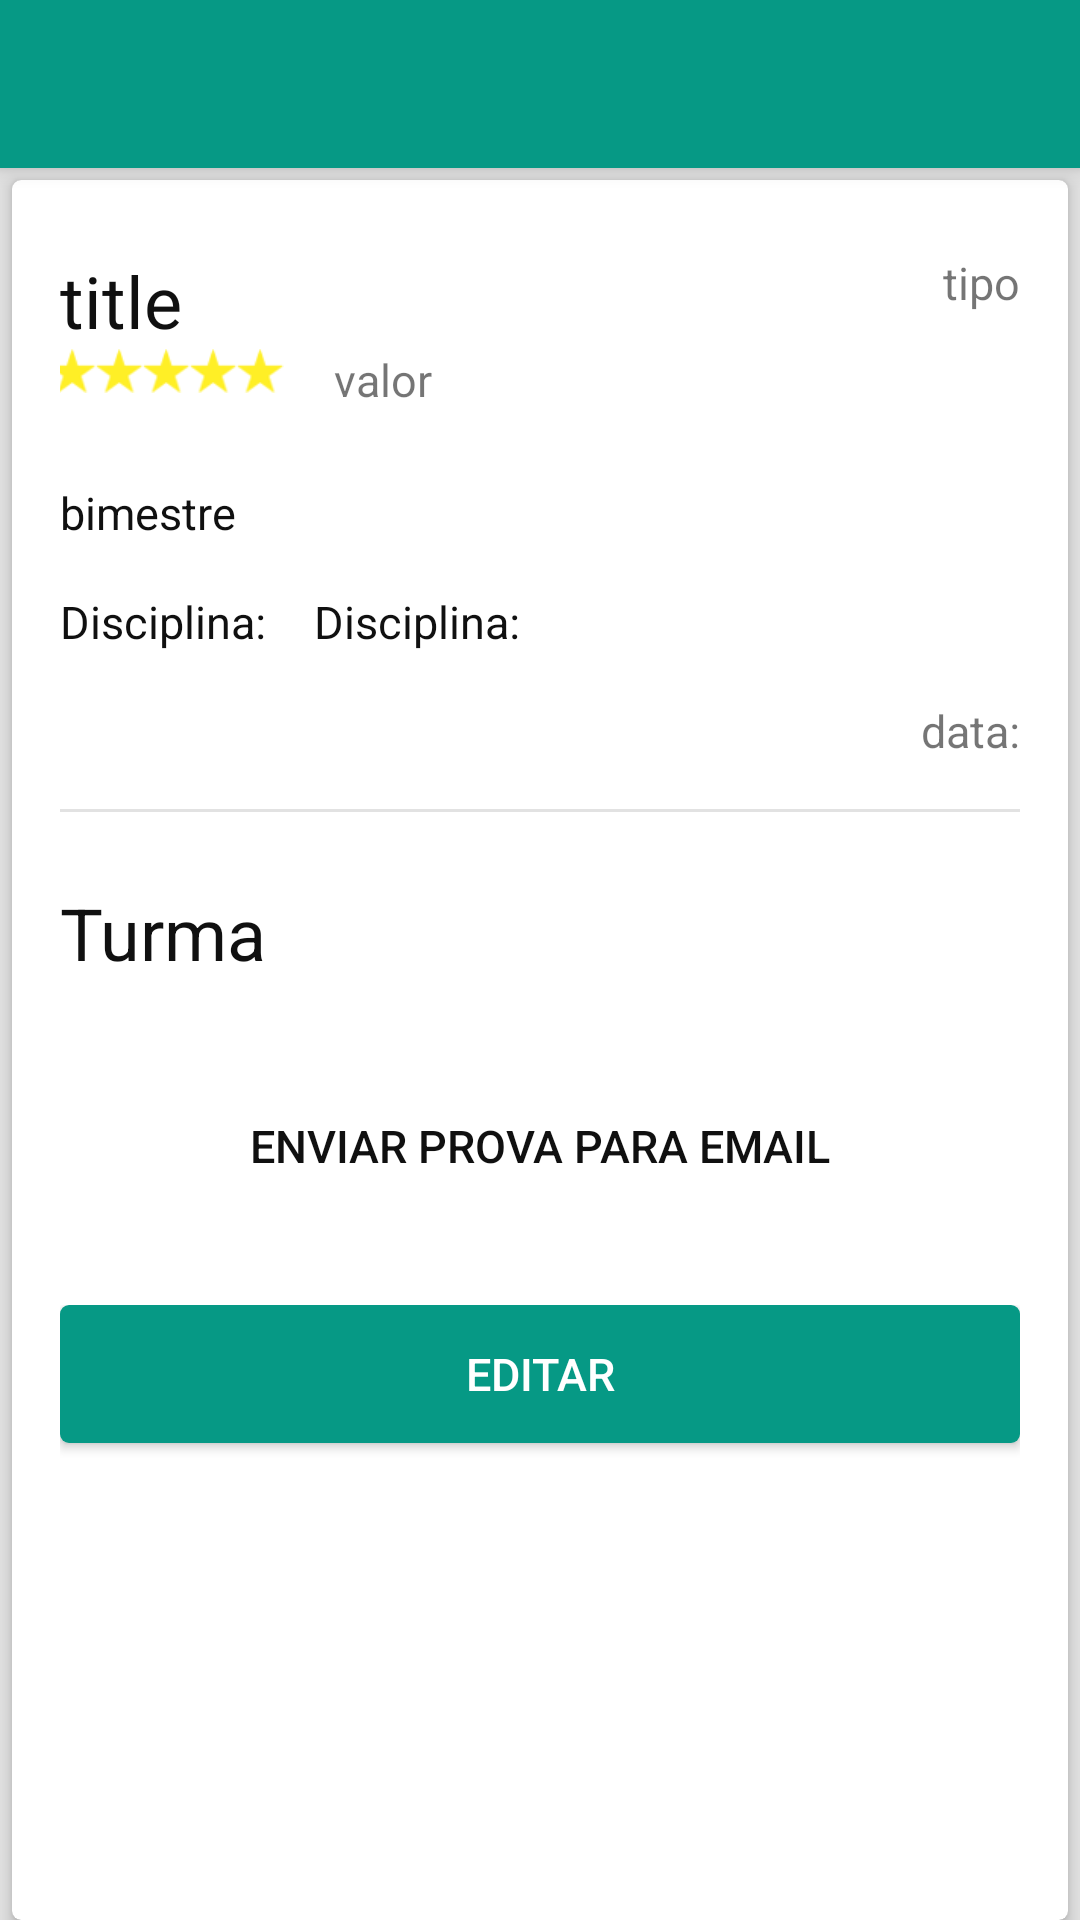

Named icons in this screenshot (1080 × 1920) and their bounding boxes, BBox(x1, y1, x2, y2):
five star: BBox(60, 349, 284, 393)
